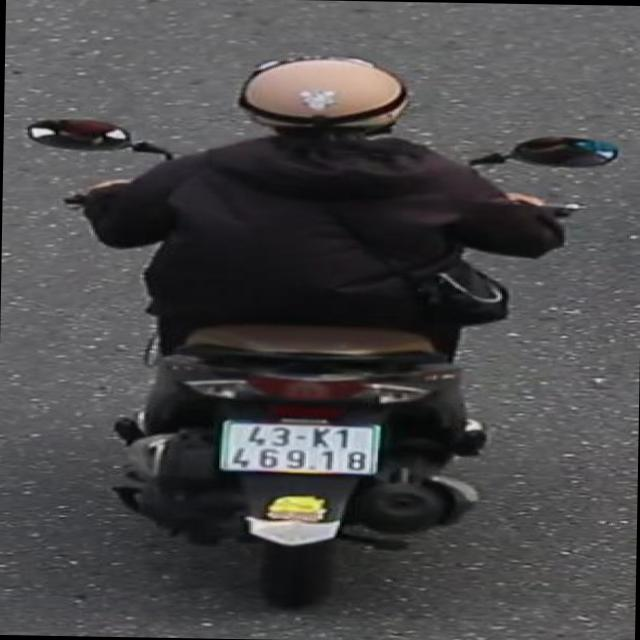LP: (202, 415, 396, 478)
helmet: (230, 46, 425, 142)
